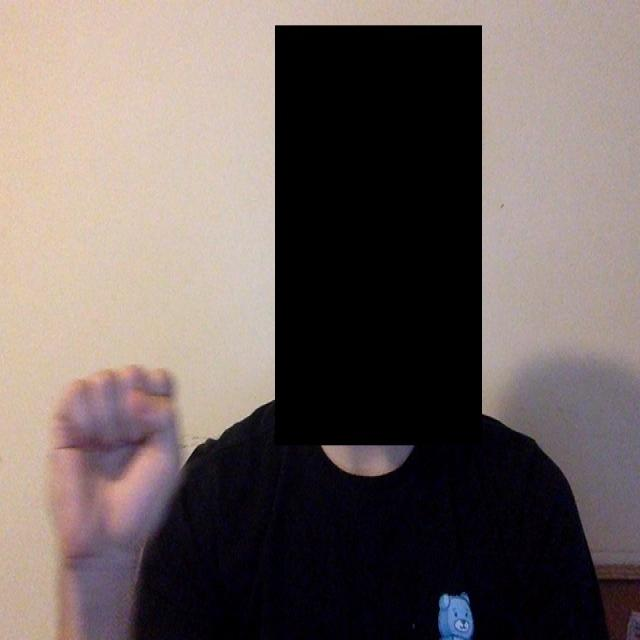S: (41, 346, 217, 616)
